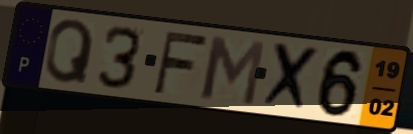3: (96, 23, 145, 91)
6: (312, 47, 368, 120)
F: (151, 29, 211, 96)
M: (199, 33, 268, 108)
Q: (43, 17, 97, 86)
X: (258, 39, 323, 116)
